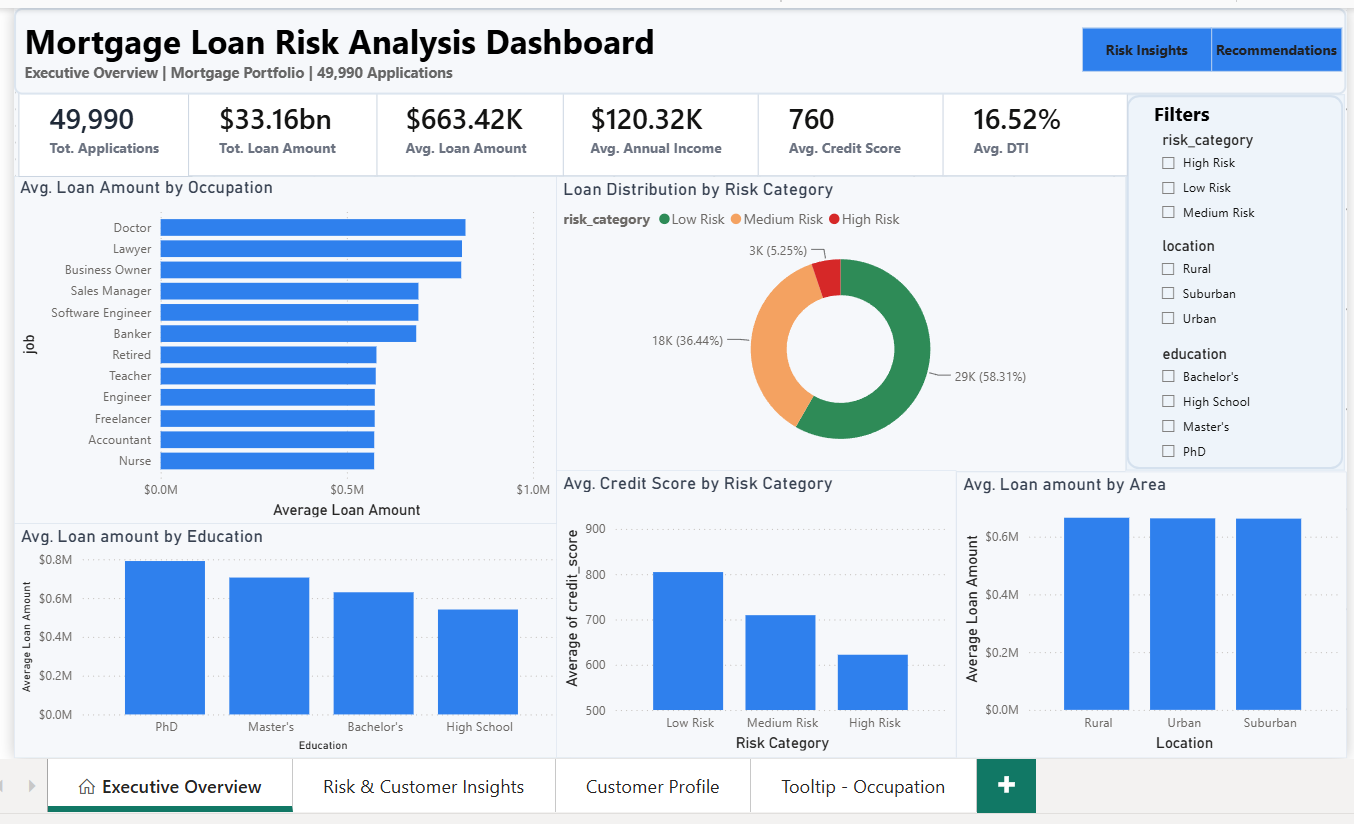

The dashboard page shown, as its layout file describes it:
{"tool":"powerbi","page":{"name":"Executive Overview","canvas":[1280,720],"ordinal":0},"visuals":[{"type":"shape","box":[1067.4,83,209.9,361.2],"z":0},{"type":"barChart","title":"Avg. Loan Amount by Occupation","fields":{"Category":["mortgage.job"],"Y":["mortgage.Average Loan Amount"]},"box":[0,161,521.4,333.8],"z":1000},{"type":"slicer","fields":{"Values":["mortgage.risk_category"]},"box":[1090.2,113.9,156.2,104.1],"z":2000},{"type":"slicer","fields":{"Values":["mortgage.location"]},"box":[1090.2,214.8,167.6,99.3],"z":3000},{"type":"donutChart","title":"Loan Distribution by Risk Category","fields":{"Category":["mortgage.risk_category"],"Y":["mortgage.Total Applications"]},"box":[521.4,161,546.5,283.6],"z":4000},{"type":"slicer","fields":{"Values":["mortgage.education"]},"box":[1090.2,318.9,167.6,125.3],"z":5000},{"type":"textbox","box":[1090.2,83,190.4,42.3],"z":6000},{"type":"cardVisual","fields":{"Data":["mortgage.Total Applications"]},"box":[4.4,68.3,166.9,93.8],"z":7000},{"type":"cardVisual","fields":{"Data":["mortgage.Average Annual Income"]},"box":[524,68.3,193.5,93],"z":8000},{"type":"cardVisual","fields":{"Data":["mortgage.Average Credit Score"]},"box":[713.9,68.3,181.7,93.3],"z":9000},{"type":"cardVisual","fields":{"Data":["mortgage.Average DTI"]},"box":[892.1,67.9,177.2,93],"z":10000},{"type":"cardVisual","fields":{"Data":["mortgage.Average Loan Amount"]},"box":[345.9,68.3,181.7,93.3],"z":11000},{"type":"cardVisual","fields":{"Data":["mortgage.Total Loan Amount"]},"box":[167.7,68.3,181.7,93],"z":12000},{"type":"clusteredColumnChart","title":"Avg. Loan amount by Education","fields":{"Category":["mortgage.education"],"Y":["mortgage.Average Loan Amount"]},"box":[0,494.8,534.6,226],"z":13000},{"type":"clusteredColumnChart","title":"Avg. Credit Score by Risk Category","fields":{"Y":["Avg(mortgage.credit_score)"],"Category":["mortgage.risk_category"]},"box":[520.7,444.2,384,276.6],"z":14000},{"type":"clusteredColumnChart","title":"Avg. Loan amount by Area","fields":{"Y":["mortgage.Average Loan Amount"],"Category":["mortgage.location"]},"box":[905,445,375,275],"z":15000},{"type":"textbox","box":[0,0,1278.9,83],"z":16000},{"type":"actionButton","title":"Recommendations","box":[1149.4,19.5,126.3,42.1],"z":18000},{"type":"actionButton","title":"Risk Insights","box":[1024.8,19.5,124.6,42.1],"z":19000}]}

Visuals, with their boxes on the page's 1280x720 design canvas (x1, y1, x2, y2). These are canvas units, not pixel positions in the 1354x824 screenshot, which may show the page scaled, cropped or inside an application window:
shape: l=1067, t=83, r=1277, b=444
"Avg. Loan Amount by Occupation" barChart: l=0, t=161, r=521, b=495
slicer - mortgage.risk_category: l=1090, t=114, r=1246, b=218
slicer - mortgage.location: l=1090, t=215, r=1258, b=314
"Loan Distribution by Risk Category" donutChart: l=521, t=161, r=1068, b=445
slicer - mortgage.education: l=1090, t=319, r=1258, b=444
textbox: l=1090, t=83, r=1281, b=125
cardVisual - mortgage.Total Applications: l=4, t=68, r=171, b=162
cardVisual - mortgage.Average Annual Income: l=524, t=68, r=718, b=161
cardVisual - mortgage.Average Credit Score: l=714, t=68, r=896, b=162
cardVisual - mortgage.Average DTI: l=892, t=68, r=1069, b=161
cardVisual - mortgage.Average Loan Amount: l=346, t=68, r=528, b=162
cardVisual - mortgage.Total Loan Amount: l=168, t=68, r=349, b=161
"Avg. Loan amount by Education" clusteredColumnChart: l=0, t=495, r=535, b=721
"Avg. Credit Score by Risk Category" clusteredColumnChart: l=521, t=444, r=905, b=721
"Avg. Loan amount by Area" clusteredColumnChart: l=905, t=445, r=1280, b=720
textbox: l=0, t=0, r=1279, b=83
"Recommendations" actionButton: l=1149, t=20, r=1276, b=62
"Risk Insights" actionButton: l=1025, t=20, r=1149, b=62
